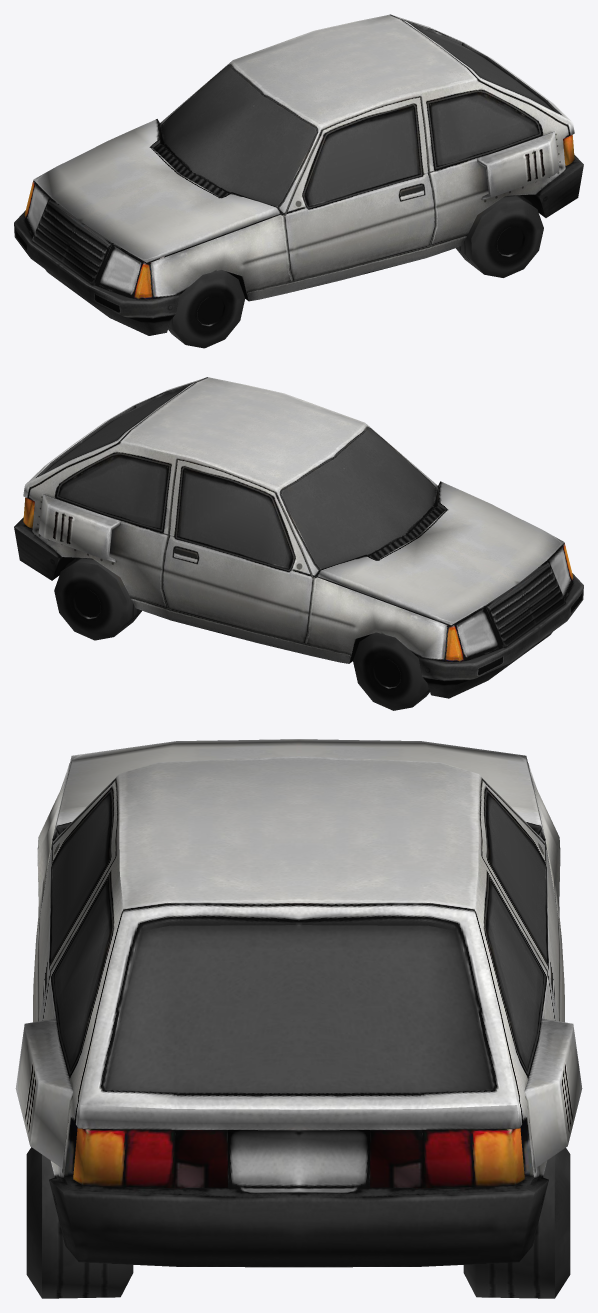
File: car2.glb
3 renders of one model, top to bottom at view 1: azimuth 30°, elevation 25°; view 2: azimuth 150°, elevation 25°; view 3: azimuth 270°, elevation 25°, orthographic. The views are drawn at different scales.
Visible parts, largest first — view 1: Object_2; view 2: Object_2; view 3: Object_2.
Part boxes in pixels (x1,y1,x2,y2): Object_2: (14,14,583,348); Object_2: (14,377,583,710); Object_2: (15,739,582,1298).
Size of the model in its own units: 49.41 by 19.04 by 25.62.
Materials: 1 (1 with a texture image).
